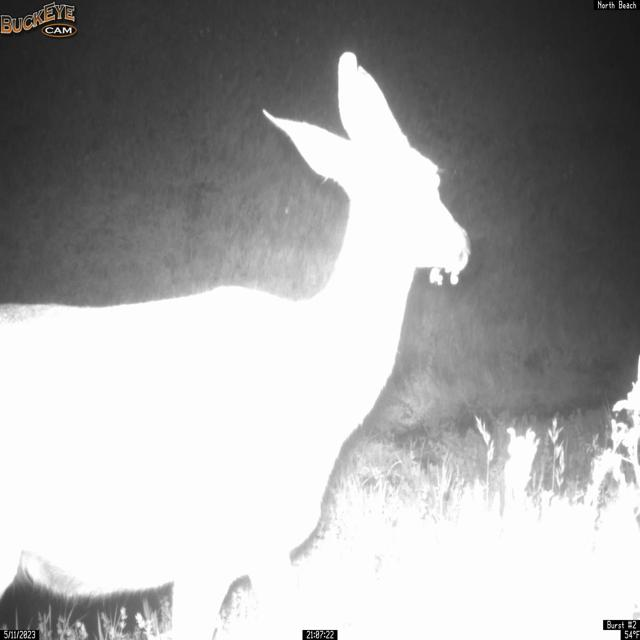deer: (0, 51, 472, 640)
